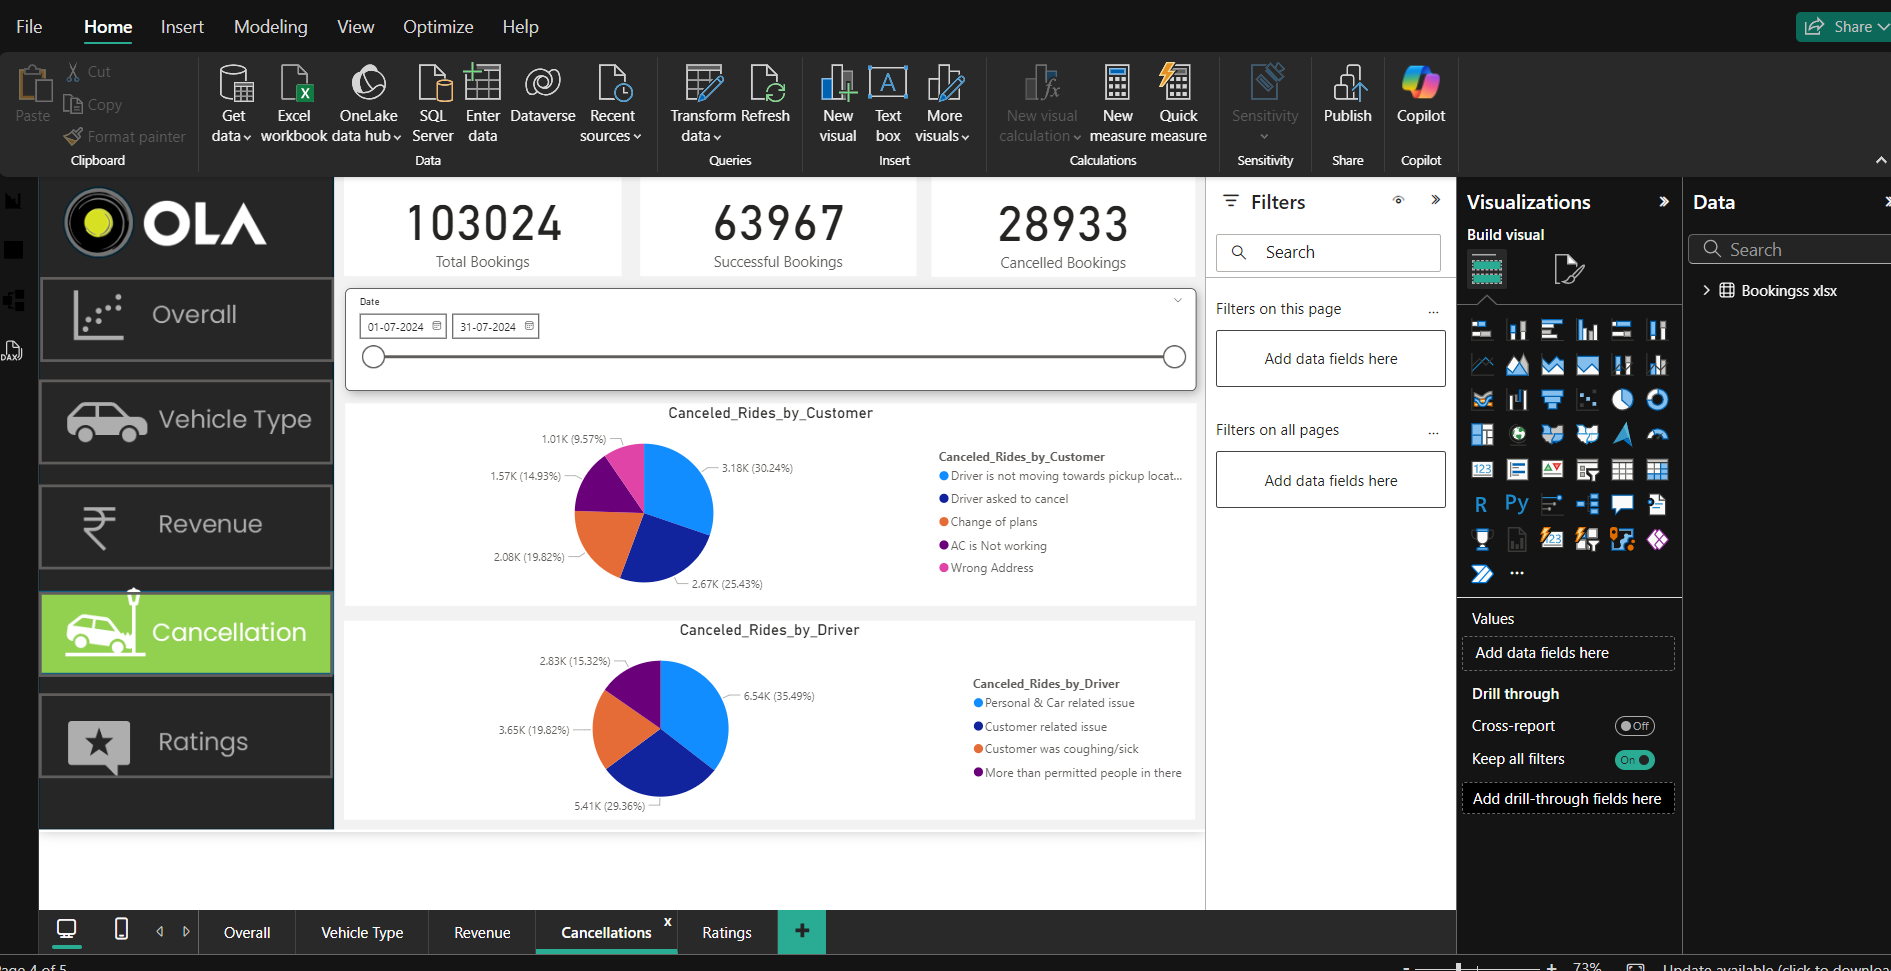

Layout of this report page (visuals, bound fields, positions):
{"tool":"powerbi","page":{"name":"Cancellations","canvas":[1280,720],"ordinal":3},"visuals":[{"type":"actionButton","box":[0,222.1,322.7,93.3],"z":0},{"type":"actionButton","box":[0,337.4,322.7,93.3],"z":1000},{"type":"actionButton","box":[0,455.2,322.7,93.3],"z":2000},{"type":"actionButton","box":[0,566.9,322.7,93.3],"z":3000},{"type":"actionButton","box":[1.2,109.2,322.7,93.3],"z":4000},{"type":"pieChart","title":"Canceled_Rides_by_Customer","fields":{"Category":["Bookingss xlsx.Canceled_Rides_by_Customer"],"Y":["CountNonNull(Bookingss xlsx.Canceled_Rides_by_Customer)"]},"box":[336.2,248.4,934.5,222.3],"z":5000},{"type":"pieChart","title":"Canceled_Rides_by_Driver","fields":{"Category":["Bookingss xlsx.Canceled_Rides_by_Driver"],"Y":["CountNonNull(Bookingss xlsx.Canceled_Rides_by_Driver)"]},"box":[334.8,487.1,934.5,218.2],"z":6000},{"type":"slicer","title":"Date","fields":{"Values":["Bookingss xlsx.Date"]},"box":[336.2,122.1,934.5,112.5],"z":7000},{"type":"card","fields":{"Values":["CountNonNull(Bookingss xlsx.Booking_ID)"]},"box":[334.8,0,304.6,108.4],"z":8000},{"type":"card","fields":{"Values":["CountNonNull(Bookingss xlsx.Booking_ID)"]},"box":[660,0,303.3,108.4],"z":9000},{"type":"card","fields":{"Values":["CountNonNull(Bookingss xlsx.Booking_ID)"]},"box":[979.8,0,289.5,109.8],"z":10000}]}

Visuals, with their boxes on the page's 1280x720 design canvas (x1, y1, x2, y2). These are canvas units, not pixel positions in the 1891x971 screenshot, which may show the page scaled, cropped or inside an application window:
actionButton: [left=0, top=222, right=323, bottom=315]
actionButton: [left=0, top=337, right=323, bottom=431]
actionButton: [left=0, top=455, right=323, bottom=548]
actionButton: [left=0, top=567, right=323, bottom=660]
actionButton: [left=1, top=109, right=324, bottom=202]
"Canceled_Rides_by_Customer" pieChart: [left=336, top=248, right=1271, bottom=471]
"Canceled_Rides_by_Driver" pieChart: [left=335, top=487, right=1269, bottom=705]
"Date" slicer: [left=336, top=122, right=1271, bottom=235]
card - CountNonNull(Bookingss xlsx.Booking_ID): [left=335, top=0, right=639, bottom=108]
card - CountNonNull(Bookingss xlsx.Booking_ID): [left=660, top=0, right=963, bottom=108]
card - CountNonNull(Bookingss xlsx.Booking_ID): [left=980, top=0, right=1269, bottom=110]
